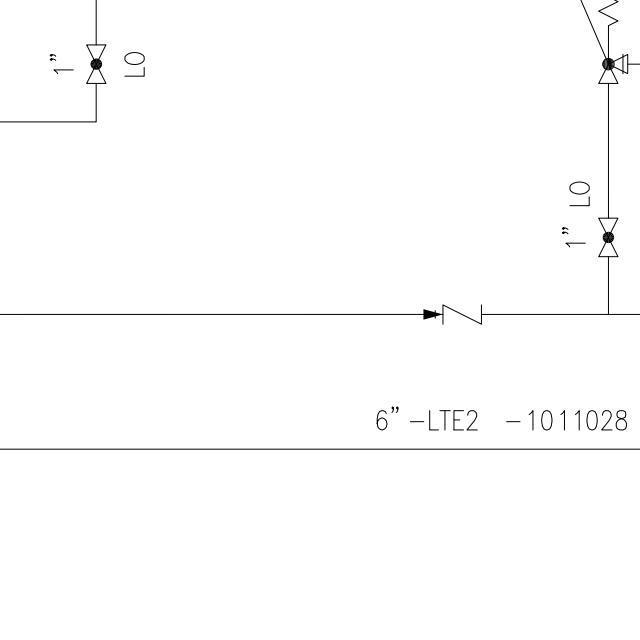BV2: (592, 207, 625, 267), (80, 39, 113, 90)
